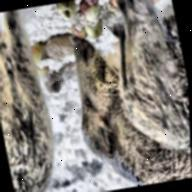boar: (47, 0, 192, 192), (104, 0, 191, 163), (0, 11, 70, 192)
